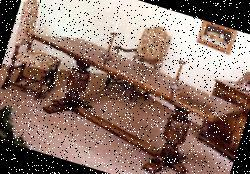Mesa: (4, 26, 247, 173)
Silla: (0, 0, 78, 105), (101, 14, 173, 106)
